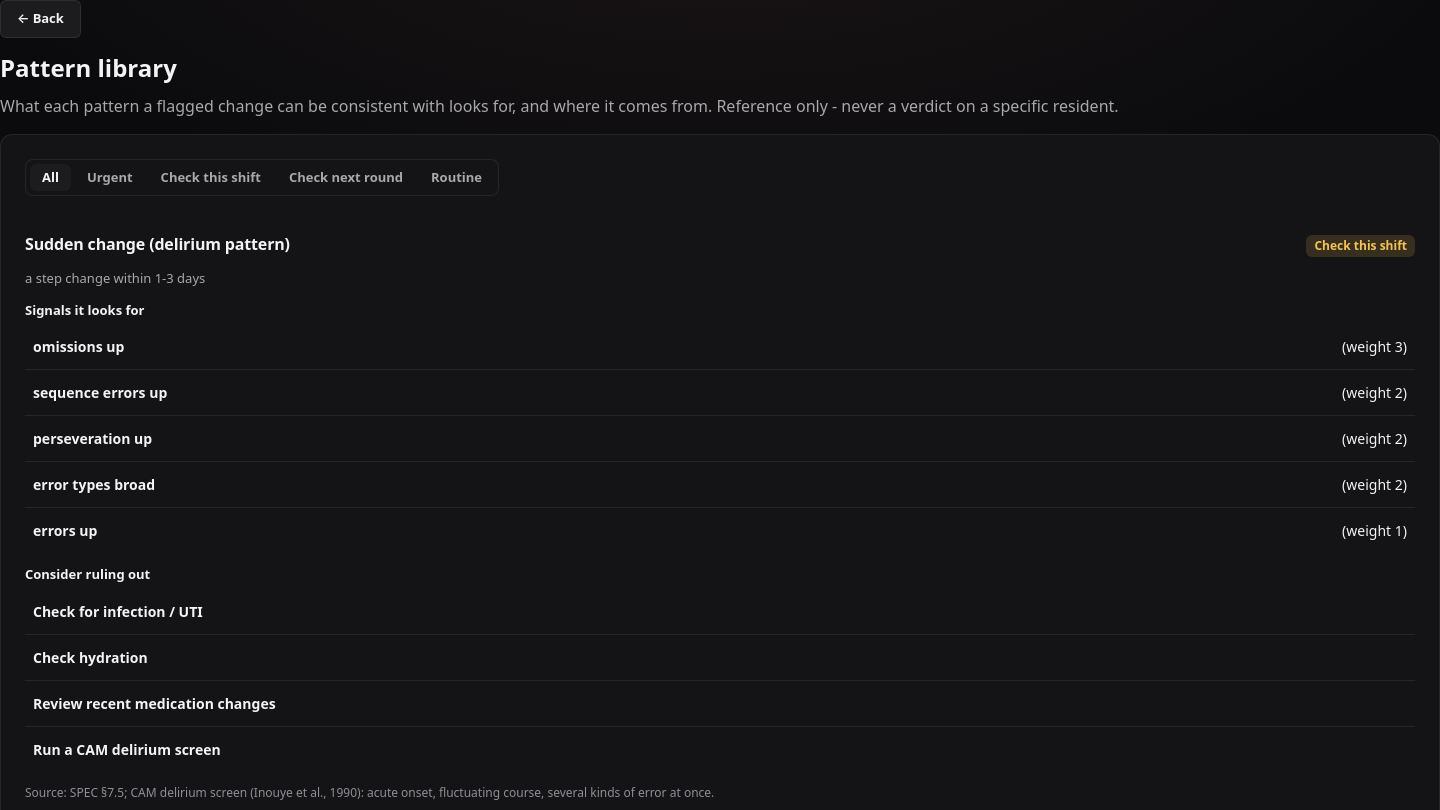
PatternLibrary urgency filter › shows the empty state for an urgency with no matching patterns
Expected: the heading "Sudden change (delirium pattern)" is shown, x1=25 y1=232 x2=290 y2=256
Click the button "Urgent" at (110, 177), box x1=75 y1=164 x2=145 y2=191
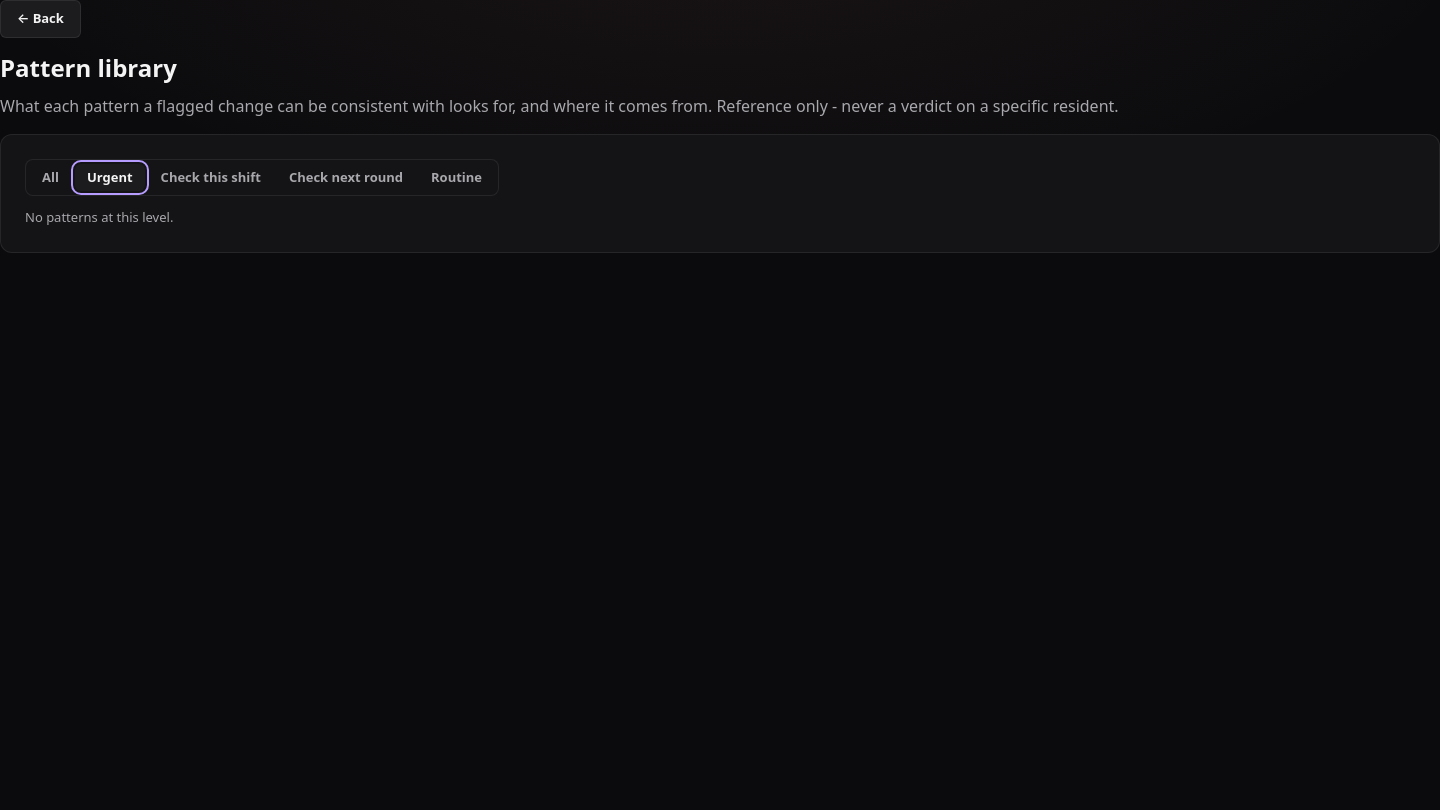
Expected: the text "No patterns at this level." is shown, x1=25 y1=208 x2=173 y2=226
